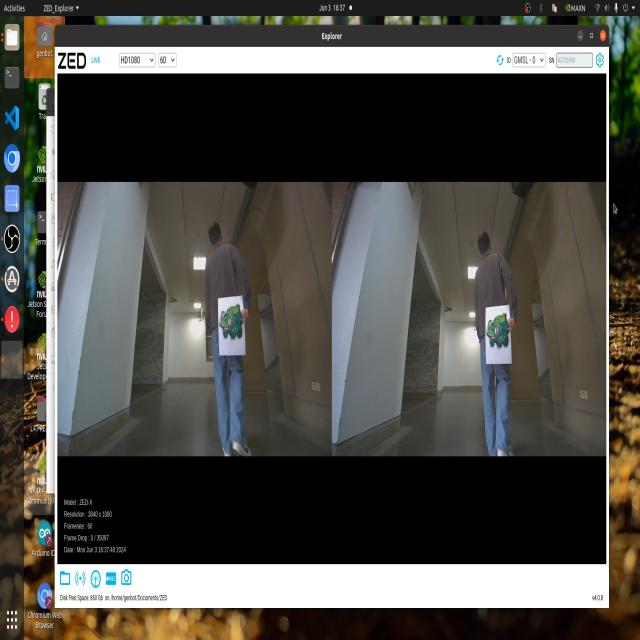green: (206, 297, 249, 343), (489, 307, 511, 358)
